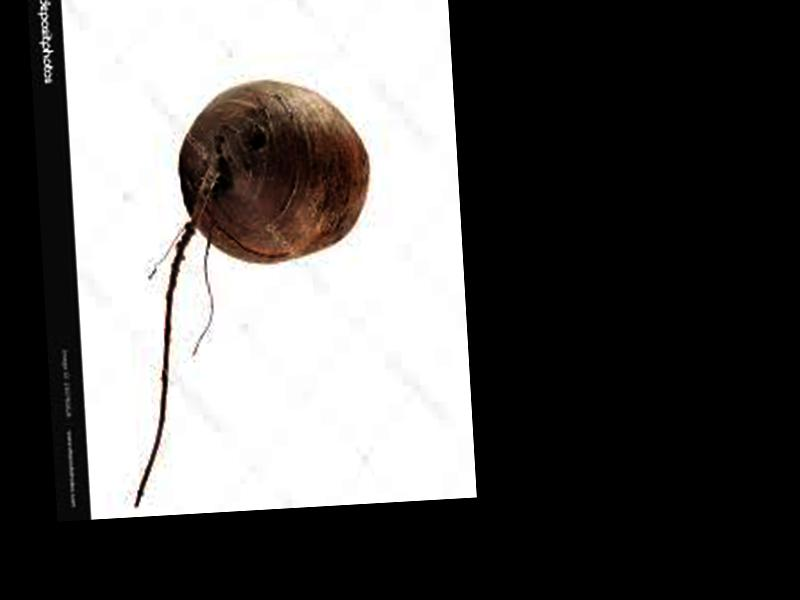Beet: (110, 77, 385, 508)
